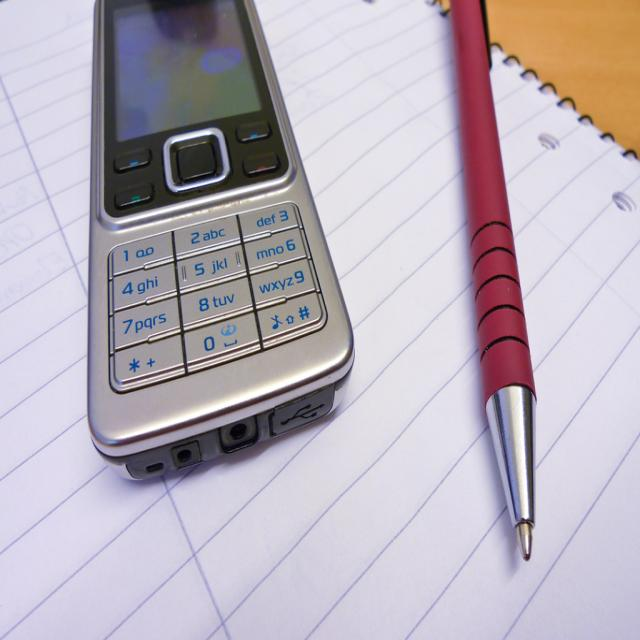pen: (444, 0, 540, 563)
